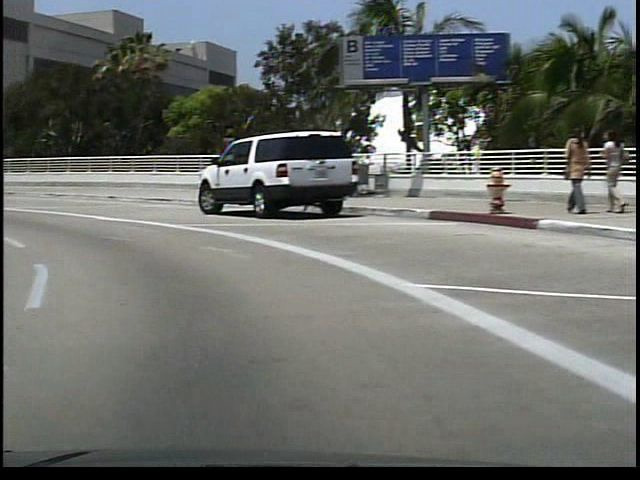person: (553, 124, 582, 218)
